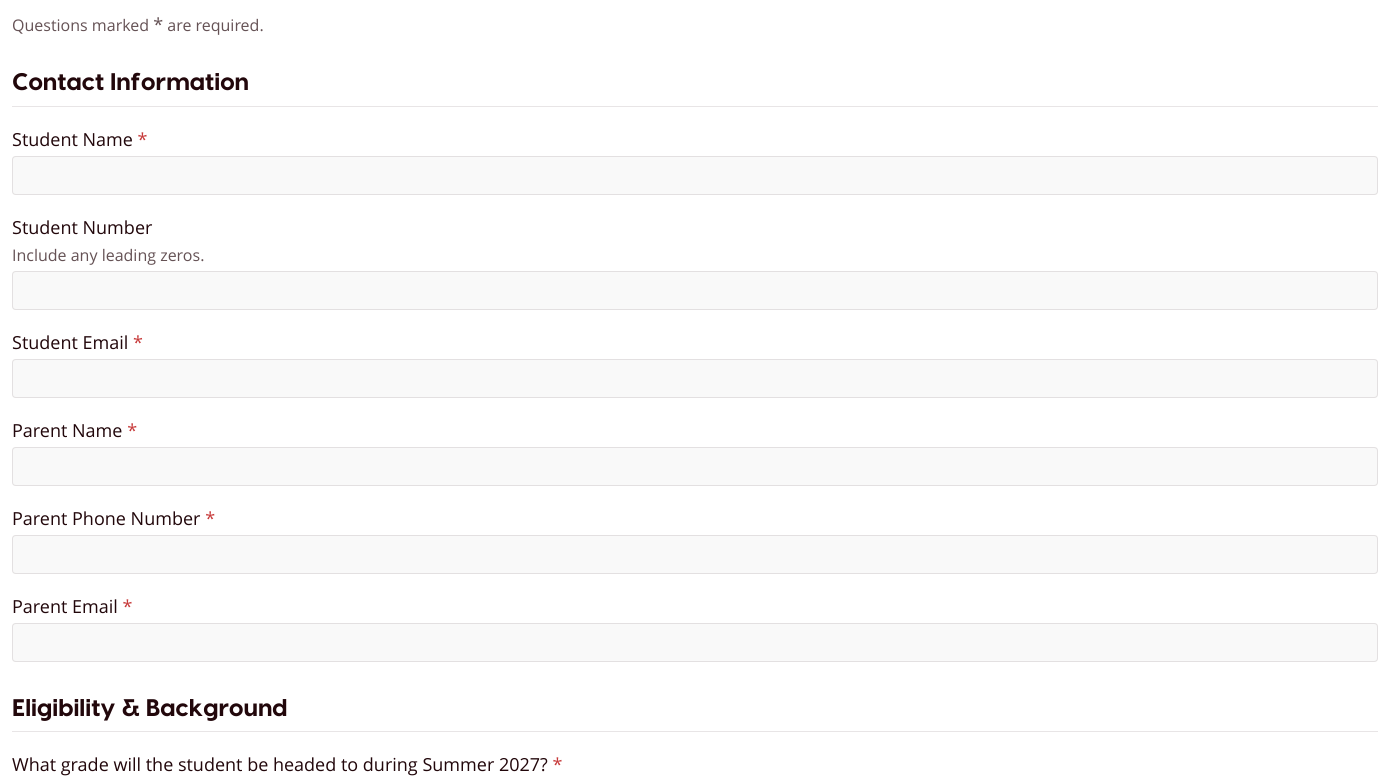
Test: DynamicForm › shows an error when an edited question loses focus
Type "ada" into the field labelled "Student Email *" at (695, 378), box [12, 358, 1378, 398]
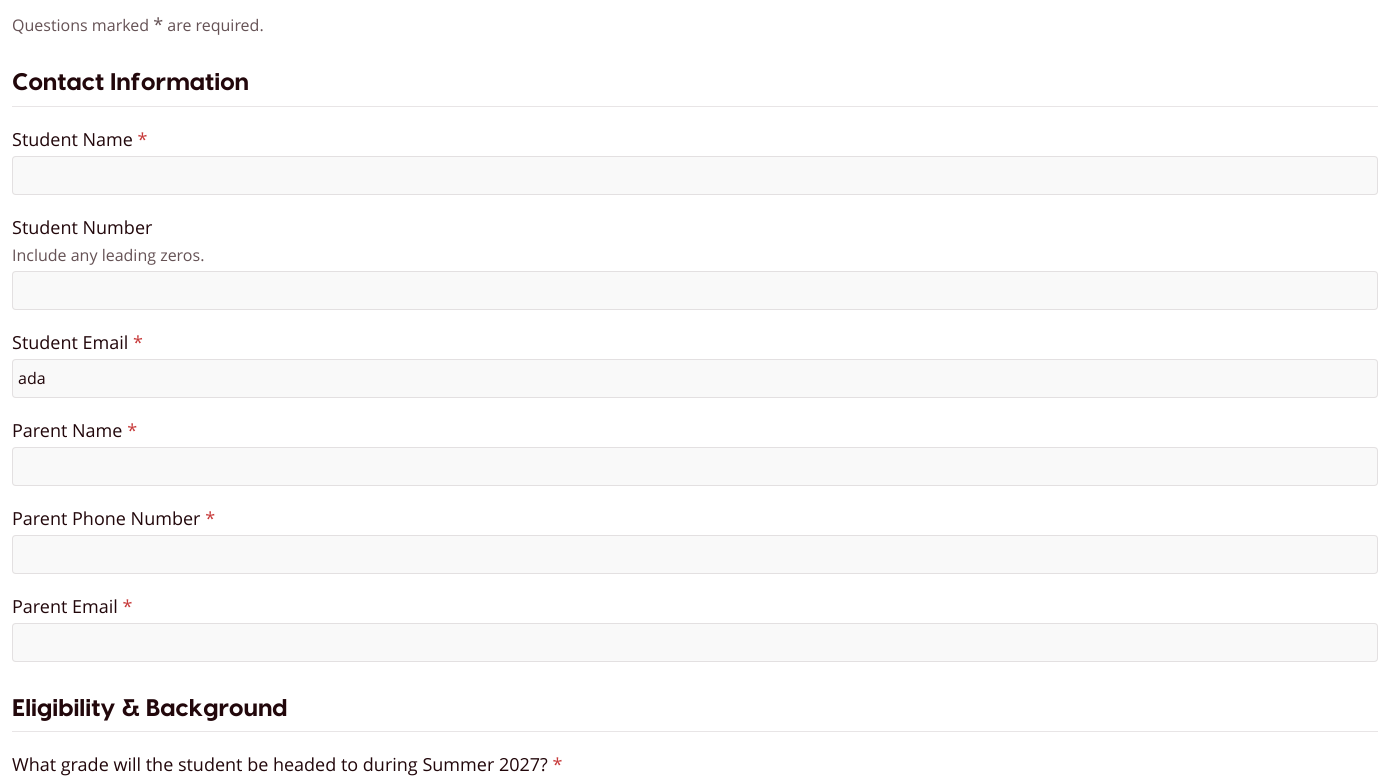
Expected: the text "Enter a valid email address" is not shown
Leave the field labelled "Student Email *", box [12, 358, 1378, 398]
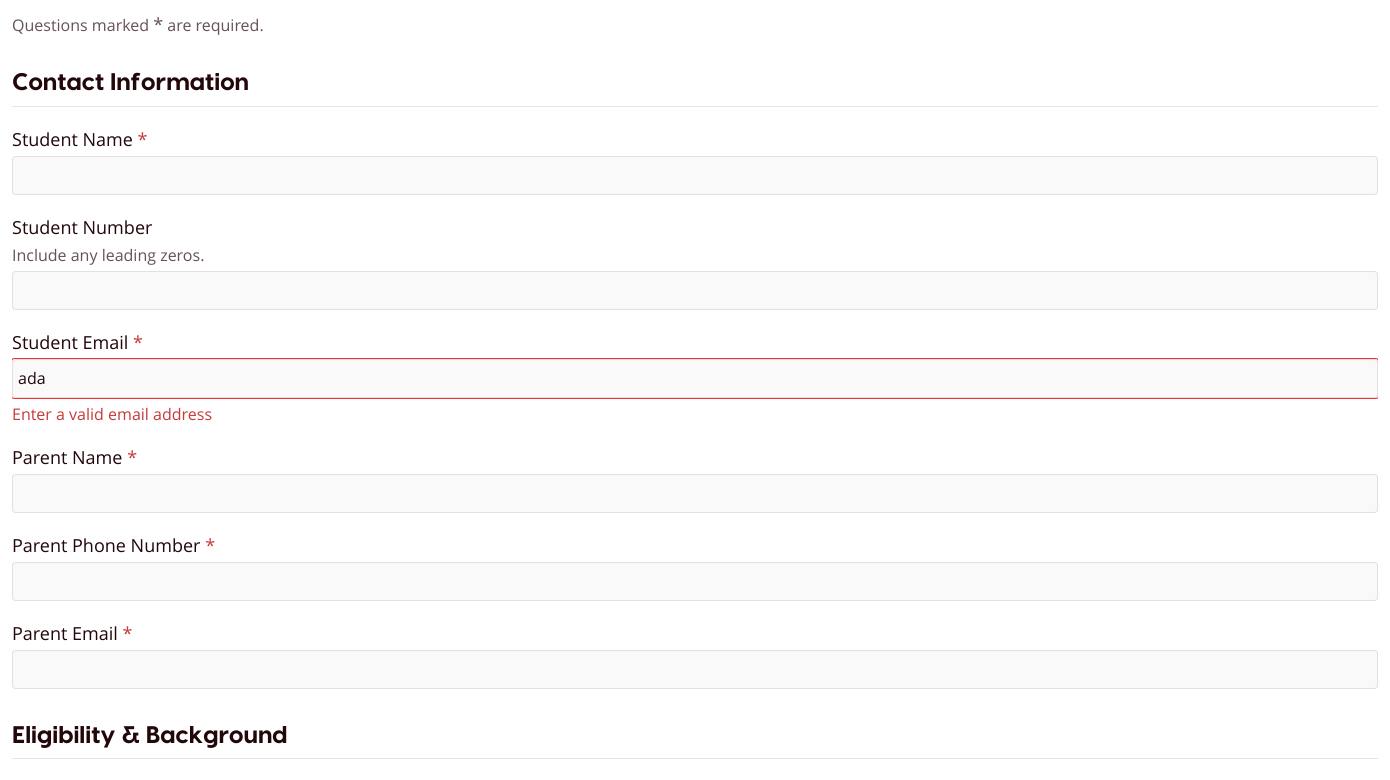
Expected: the text "Enter a valid email address" is shown, [12, 402, 212, 424]
